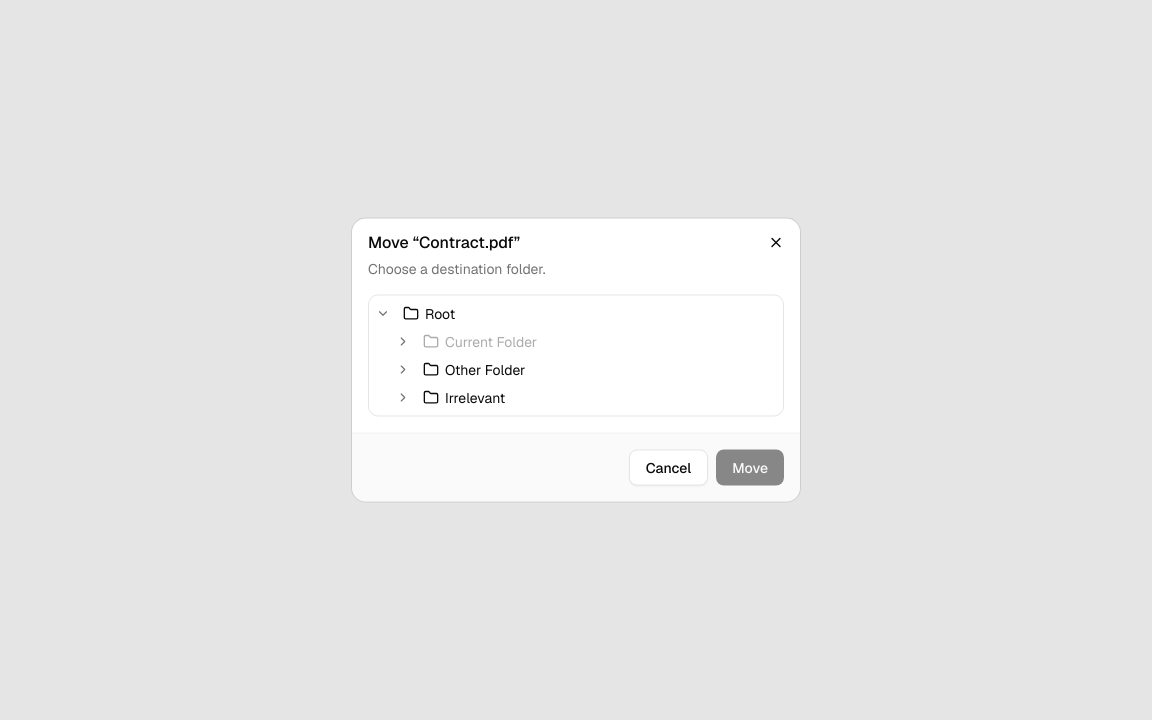
it: MoveDialog › surfaces a server-side rejection inline and keeps the dialog open
Click the list item "Other Folder" at (485, 370), box [417,356,779,384]
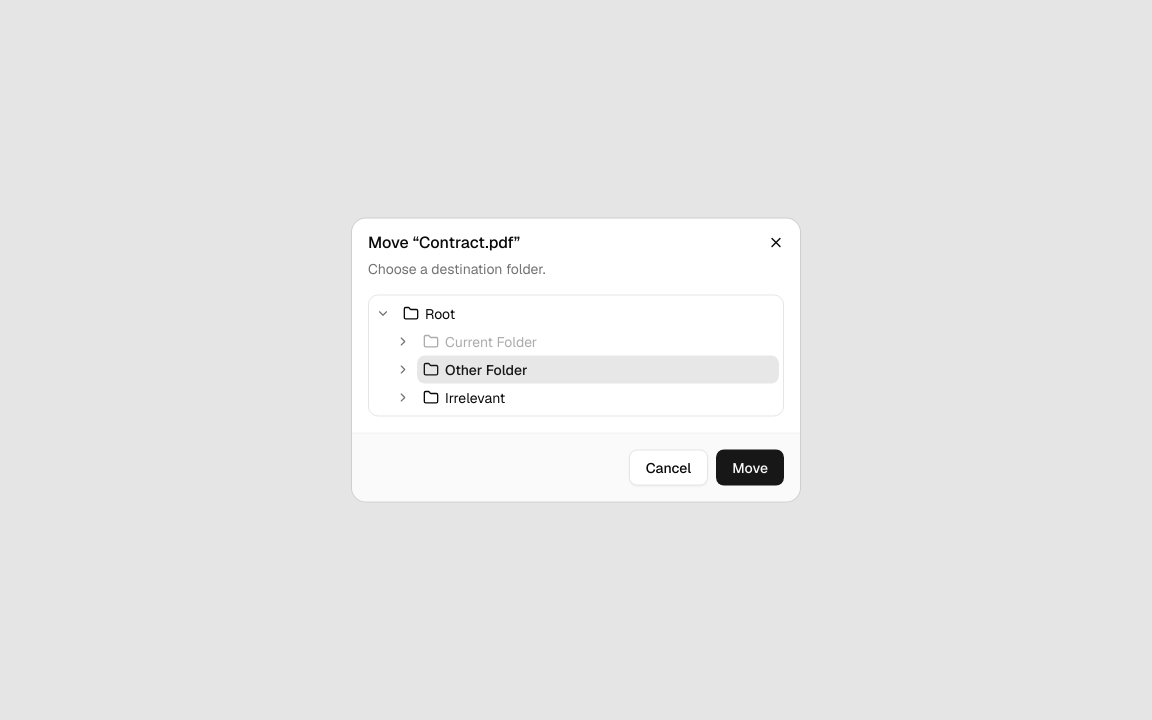
Click the button "Move" at (750, 468), box [716,450,784,486]
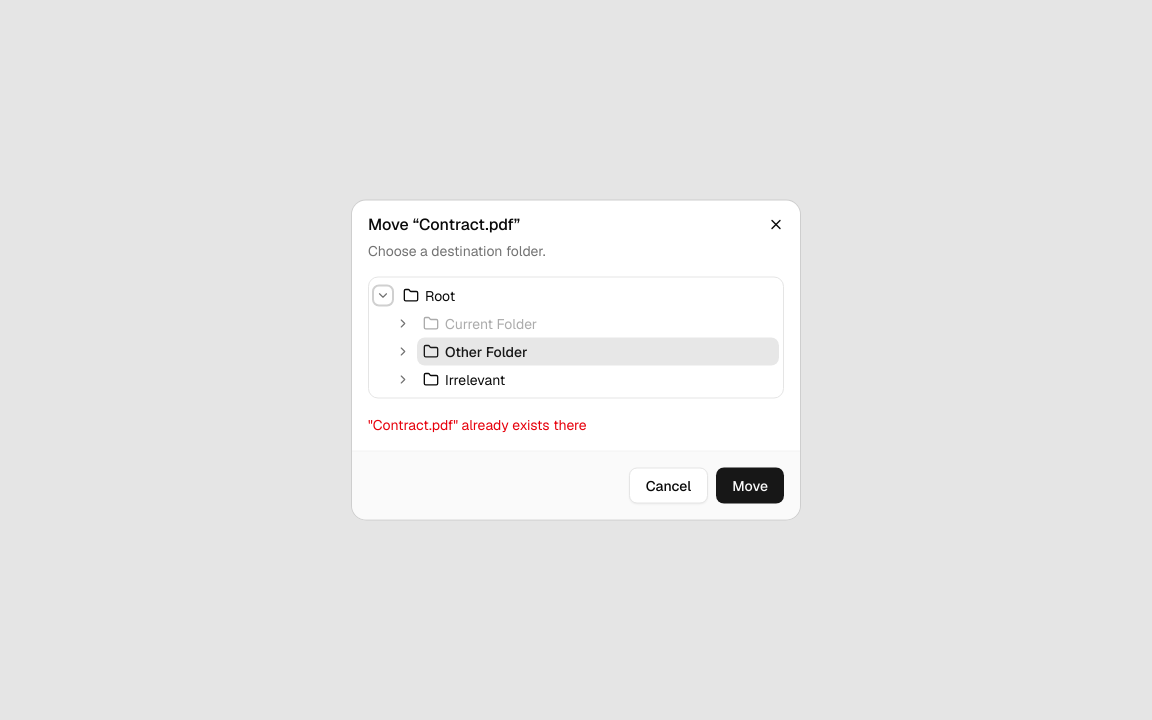
expect the message reads "\"Contract.pdf\" already exists there": met, box [368,416,587,434]
